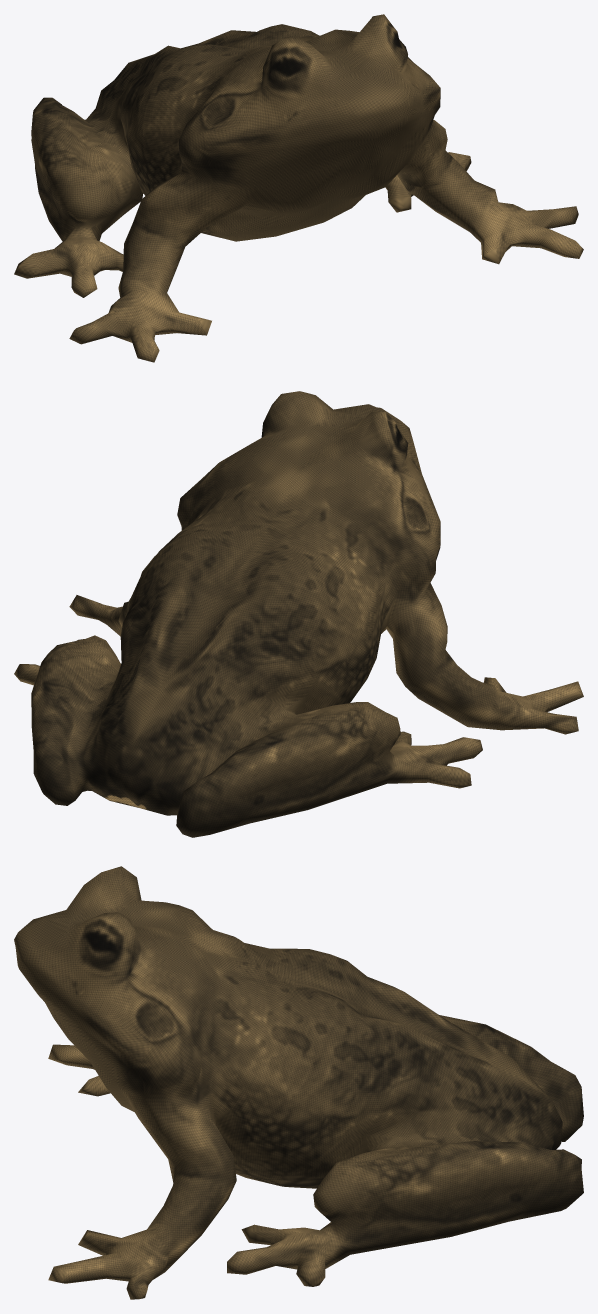
The model's file is ranaloa.fbx.
3 renders of one model, top to bottom at view 1: azimuth 30°, elevation 25°; view 2: azimuth 150°, elevation 25°; view 3: azimuth 270°, elevation 25°, orthographic. The views are drawn at different scales.
Visible parts, largest first — view 1: Group50449; view 2: Group50449; view 3: Group50449.
Part boxes in pixels (x1,y1,x2,y2): Group50449: [14, 14, 583, 362]; Group50449: [14, 391, 583, 837]; Group50449: [14, 866, 583, 1299].
Size of the model in its own units: 4.98 by 2.48 by 4.52.
1 material, 1 textured.
